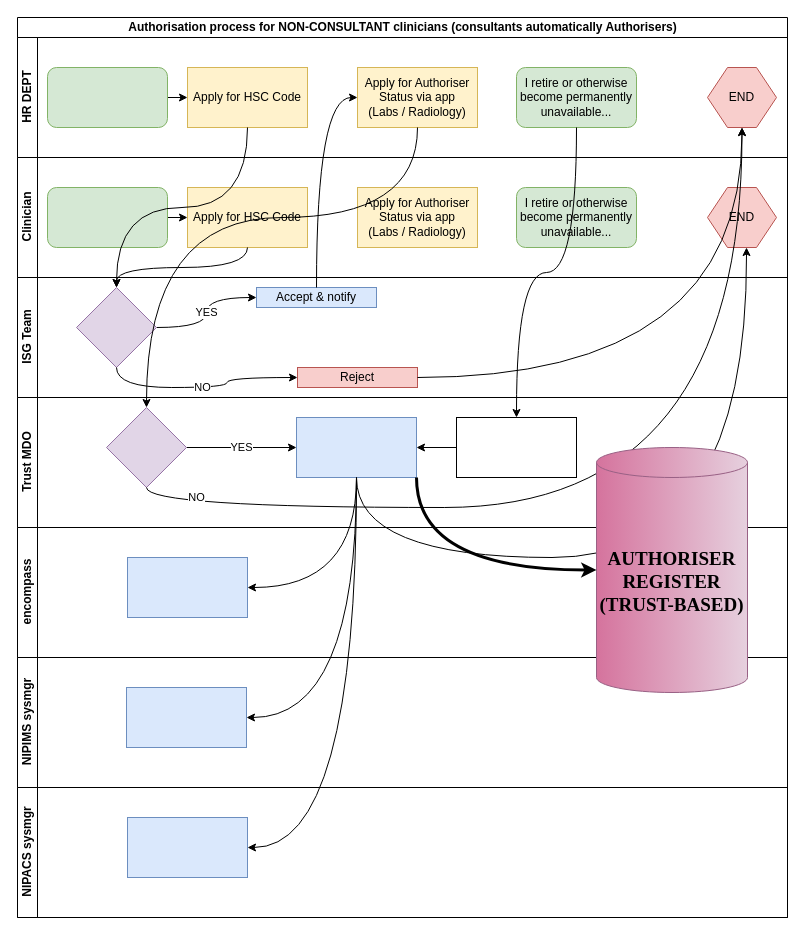
Some shapes in this 805 by 935 pixel diagram are drawn without their labels. Here are the shapes that lost their labels. From the top down, the centre of each, then its label:
At [107,97]: "Clinician joins organisation".
At [107,217]: "I want to be an Authoriser".
At [116,327]: "Professional Registration validated".
At [146,447]: "Authorisation status approved?".
At [356,447]: "Update Authoriser Register. Inform downstream systems.".
At [516,447]: "Details checked - decision to remove from Authoriser Register".
At [187,587]: "Update Authoriser status on encompass".
At [186,717]: "Update Authoriser status on NIPIMS".
At [187,847]: "Update Authoriser status on NIPACS+".
